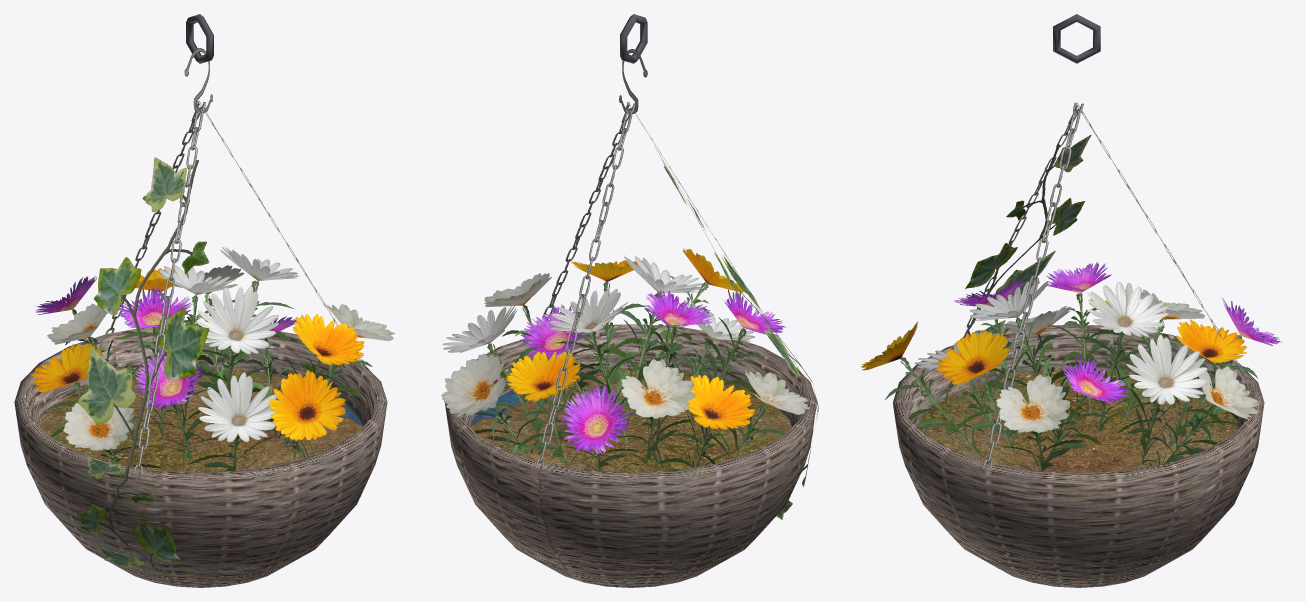
Rendered from SM_Flower_Hanging_02.glb.
The picture shows the model from 3 angles, left to right: view 1: azimuth 30°, elevation 25°; view 2: azimuth 150°, elevation 25°; view 3: azimuth 270°, elevation 25°; orthographic projection.
Parts seen in each view (by area): view 1: SM_Flower_Hanging_02; view 2: SM_Flower_Hanging_02; view 3: SM_Flower_Hanging_02.
Part boxes in pixels (x1=…): SM_Flower_Hanging_02: x1=14, y1=14, x2=394, y2=587; SM_Flower_Hanging_02: x1=441, y1=14, x2=818, y2=587; SM_Flower_Hanging_02: x1=861, y1=14, x2=1282, y2=587.
Size of the model in its own units: 0.6079 by 0.9714 by 0.7023.
Materials: 1 (1 with a texture image).
